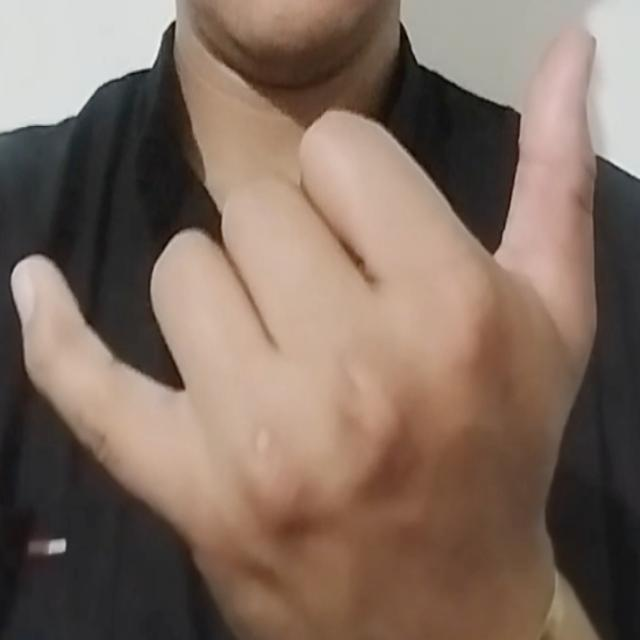Y: (4, 22, 604, 635)
